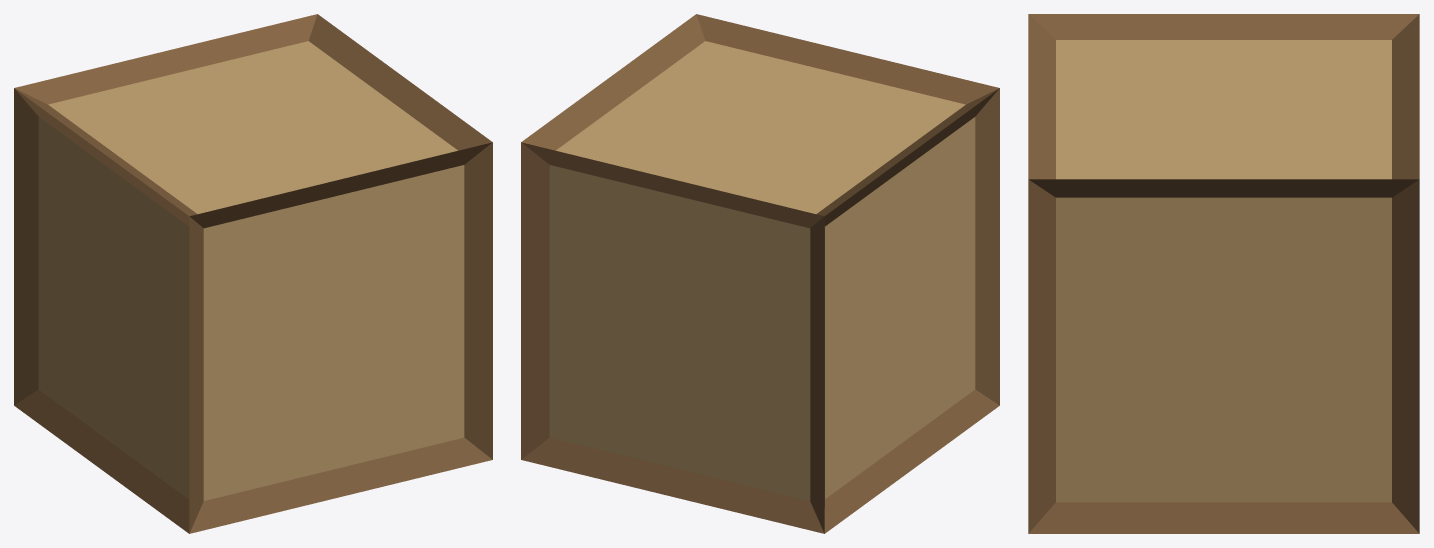
The model's file is crate.glb.
3 renders of one model, left to right at view 1: azimuth 30°, elevation 25°; view 2: azimuth 150°, elevation 25°; view 3: azimuth 270°, elevation 25°, orthographic. The views are drawn at different scales.
Visible parts, largest first — view 1: SM_Crate; view 2: SM_Crate; view 3: SM_Crate.
Boxes of the visible parts, box(x1,y1,x2,y2) form: SM_Crate: box(14, 14, 492, 533); SM_Crate: box(521, 14, 999, 533); SM_Crate: box(1028, 14, 1419, 533).
Size of the model in its own units: 1 by 1 by 1.
